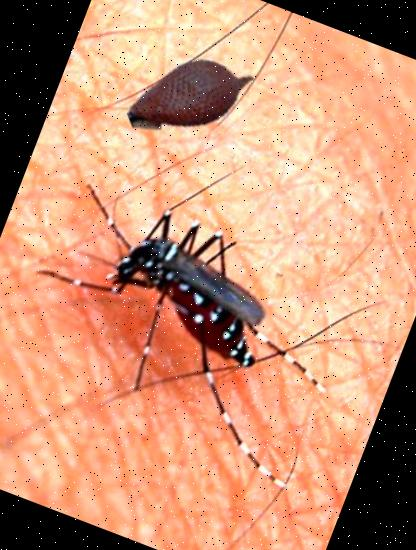Salak: (104, 11, 275, 182)
